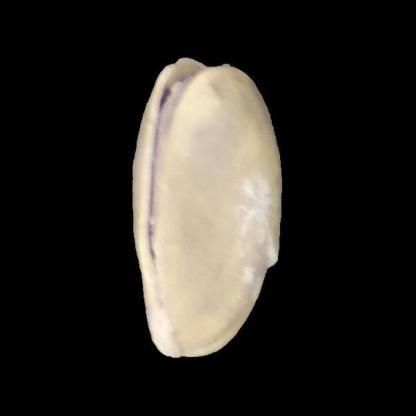pistachio: (129, 47, 278, 359)
